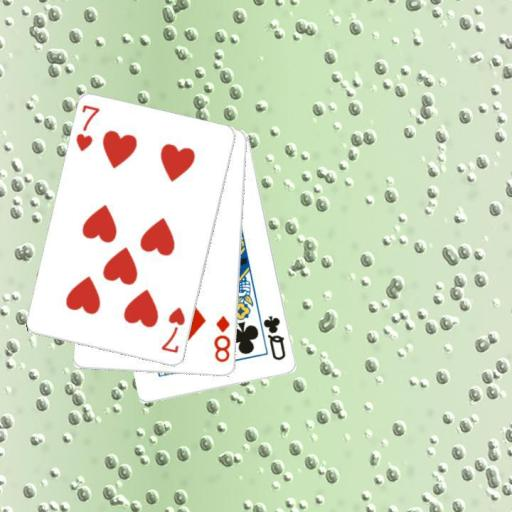7H: (73, 102, 102, 154), (158, 305, 187, 356)
8D: (211, 313, 232, 364)
QC: (260, 312, 288, 362)
